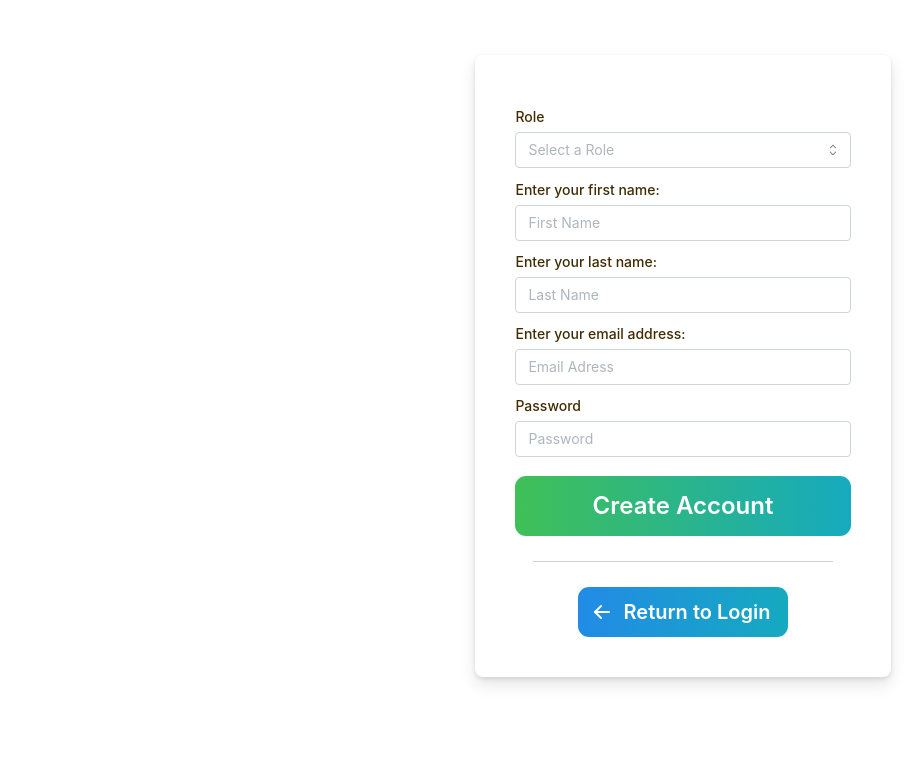
Create new account › displays student id if role is student
The image size is (911, 768).
What coordinates should you click on to do the following:
click the text "Role"
I would click on:
 (530, 116)
Its box is top-left (515, 106), bottom-right (544, 127).
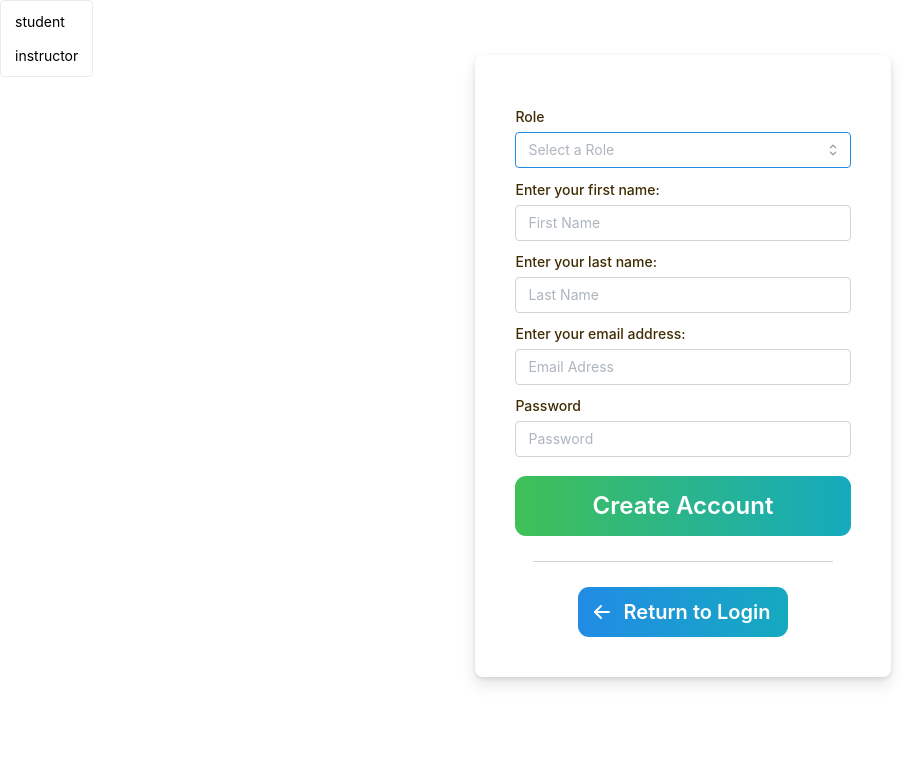
What coordinates should you click on to do the following:
click the option "student"
I would click on:
 (40, 22)
Its box is top-left (15, 13), bottom-right (65, 30).
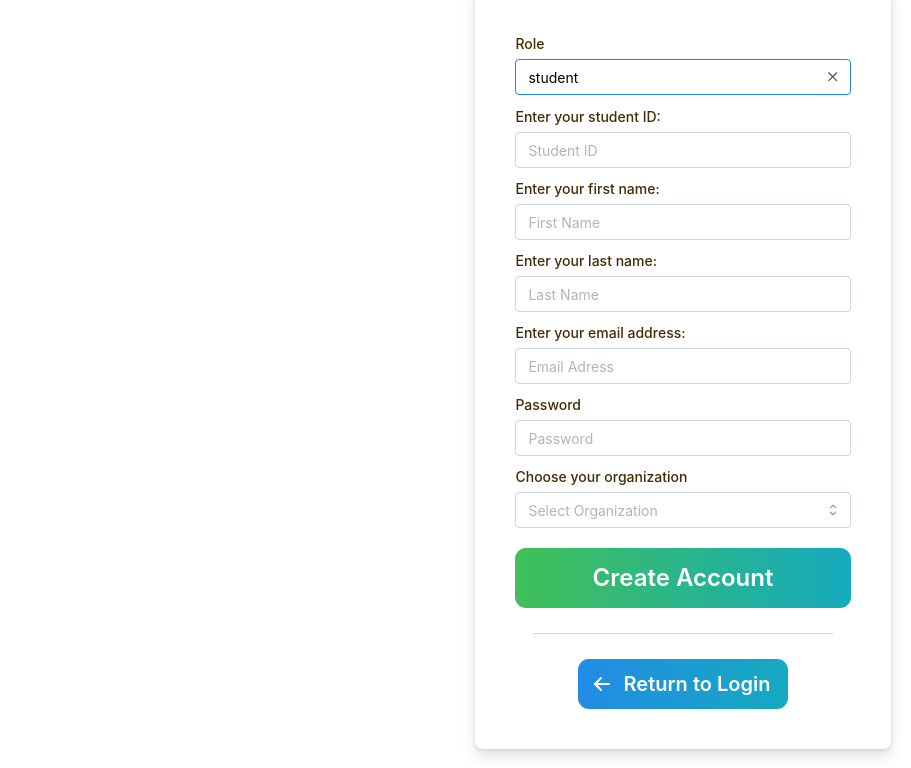
Now the text "Enter your student ID:" is shown, box top-left (515, 106), bottom-right (661, 128)
